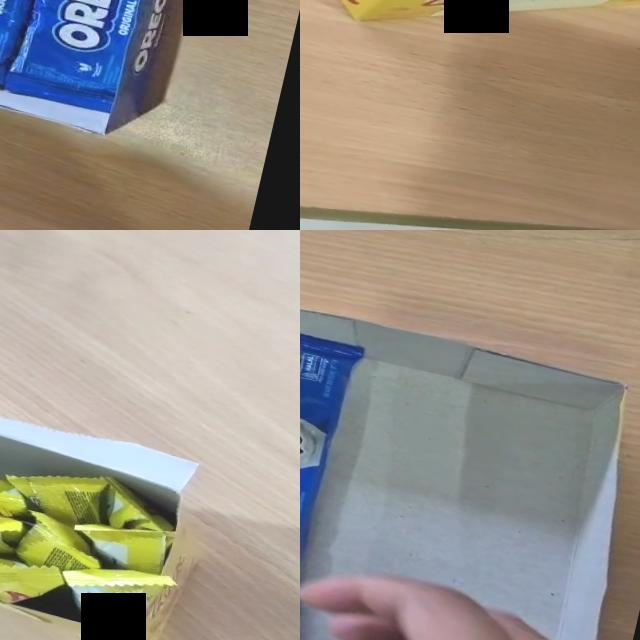Ahh: (51, 552, 179, 640), (0, 455, 112, 530), (6, 507, 109, 582), (66, 508, 175, 577), (92, 476, 182, 542), (0, 547, 67, 614), (0, 462, 38, 524), (0, 500, 29, 560)
Oreo: (0, 0, 213, 146), (300, 311, 367, 640)
